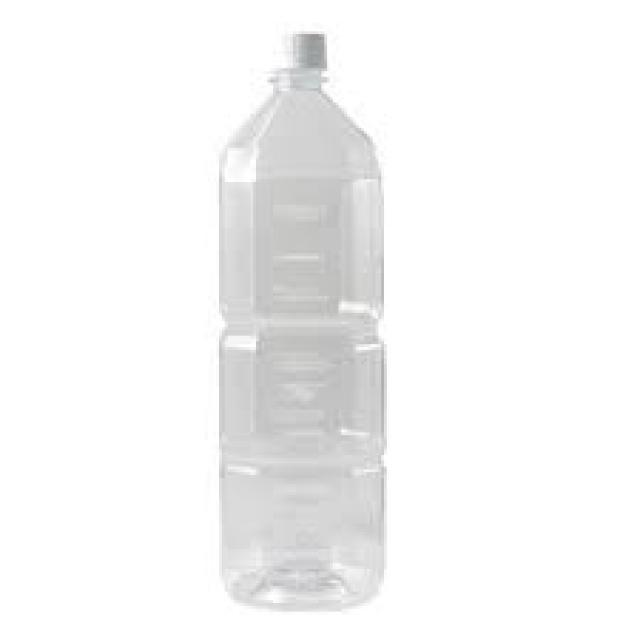Plastic: (222, 31, 382, 604)
